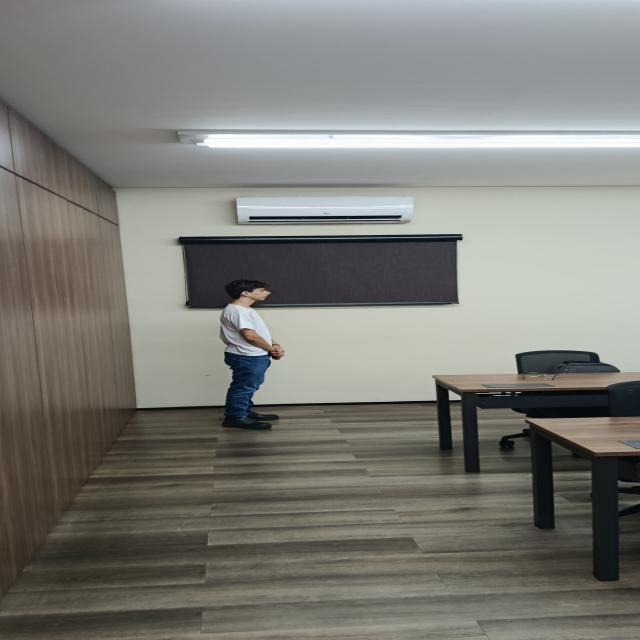sem_oculos: (242, 288, 269, 294)
